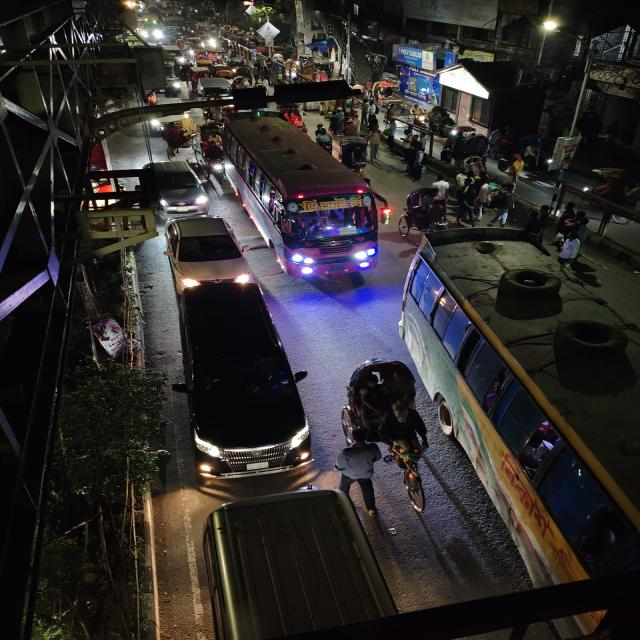bus: (399, 225, 640, 606), (227, 115, 381, 288)
car: (167, 298, 319, 488), (163, 215, 250, 289), (144, 159, 213, 213), (196, 76, 234, 102)
motorcycle: (340, 357, 431, 513), (195, 140, 229, 181)
pedestrian: (456, 174, 489, 224), (552, 236, 584, 272), (488, 188, 517, 227), (470, 178, 499, 216), (522, 211, 546, 247), (404, 146, 429, 180), (410, 207, 432, 241), (347, 142, 369, 174), (396, 207, 415, 241), (364, 128, 382, 162), (430, 176, 452, 203), (313, 123, 334, 151), (506, 154, 527, 182), (428, 200, 450, 226), (454, 170, 471, 195)
rickshaw: (156, 120, 194, 156)
